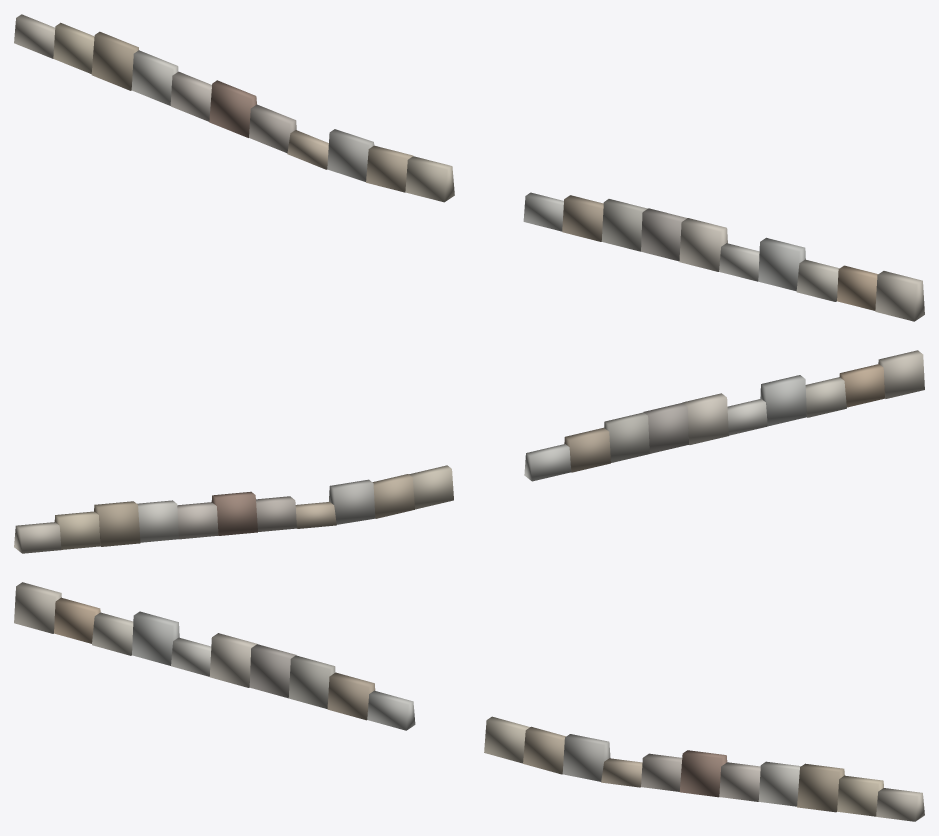
Rendered from farm_-10_1_collision.glb.
3 renders of one model, top to bottom at view 1: azimuth 90°, elevation 25°; view 2: azimuth 150°, elevation 25°; view 3: azimuth 270°, elevation 25°, orthographic. The views are drawn at different scales.
Parts seen in each view (by area): view 1: geometry_0; view 2: geometry_0; view 3: geometry_0.
Boxes of the visible parts, bbox=[...] form: geometry_0: bbox=[14, 14, 924, 321]; geometry_0: bbox=[14, 350, 924, 553]; geometry_0: bbox=[14, 582, 924, 821].
Size of the model in its own units: 20.09 by 2.79 by 31.52.
